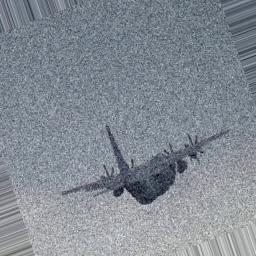Airplane: (61, 123, 231, 207)
